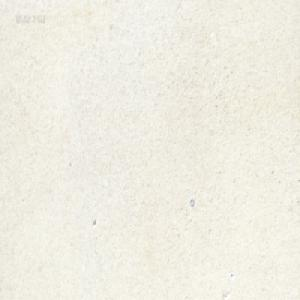Washer: (189, 198, 194, 207)
